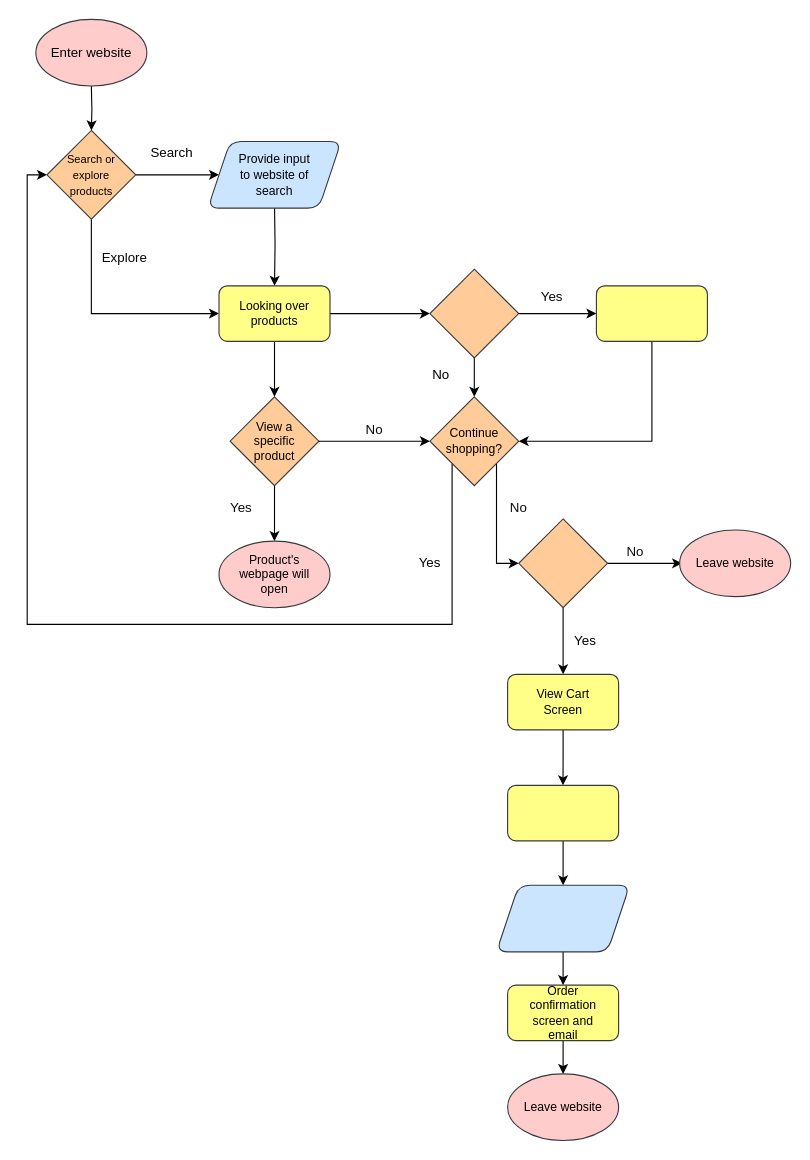
The diagram is 810 pixels wide and 1160 high, and some of its shapes have lost their labels. Each missing label, with the centre of its shape:
Add to cart?: the point at 474,313
Added to cart confirmation: the point at 651,313
Checkout?: the point at 563,563
Input of payment info: the point at 562,918
View Payment Screen: the point at 562,812
